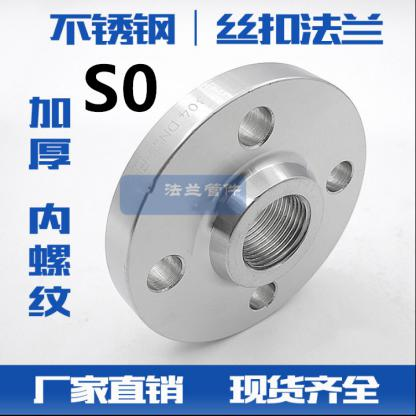FOD: (104, 57, 369, 349)
